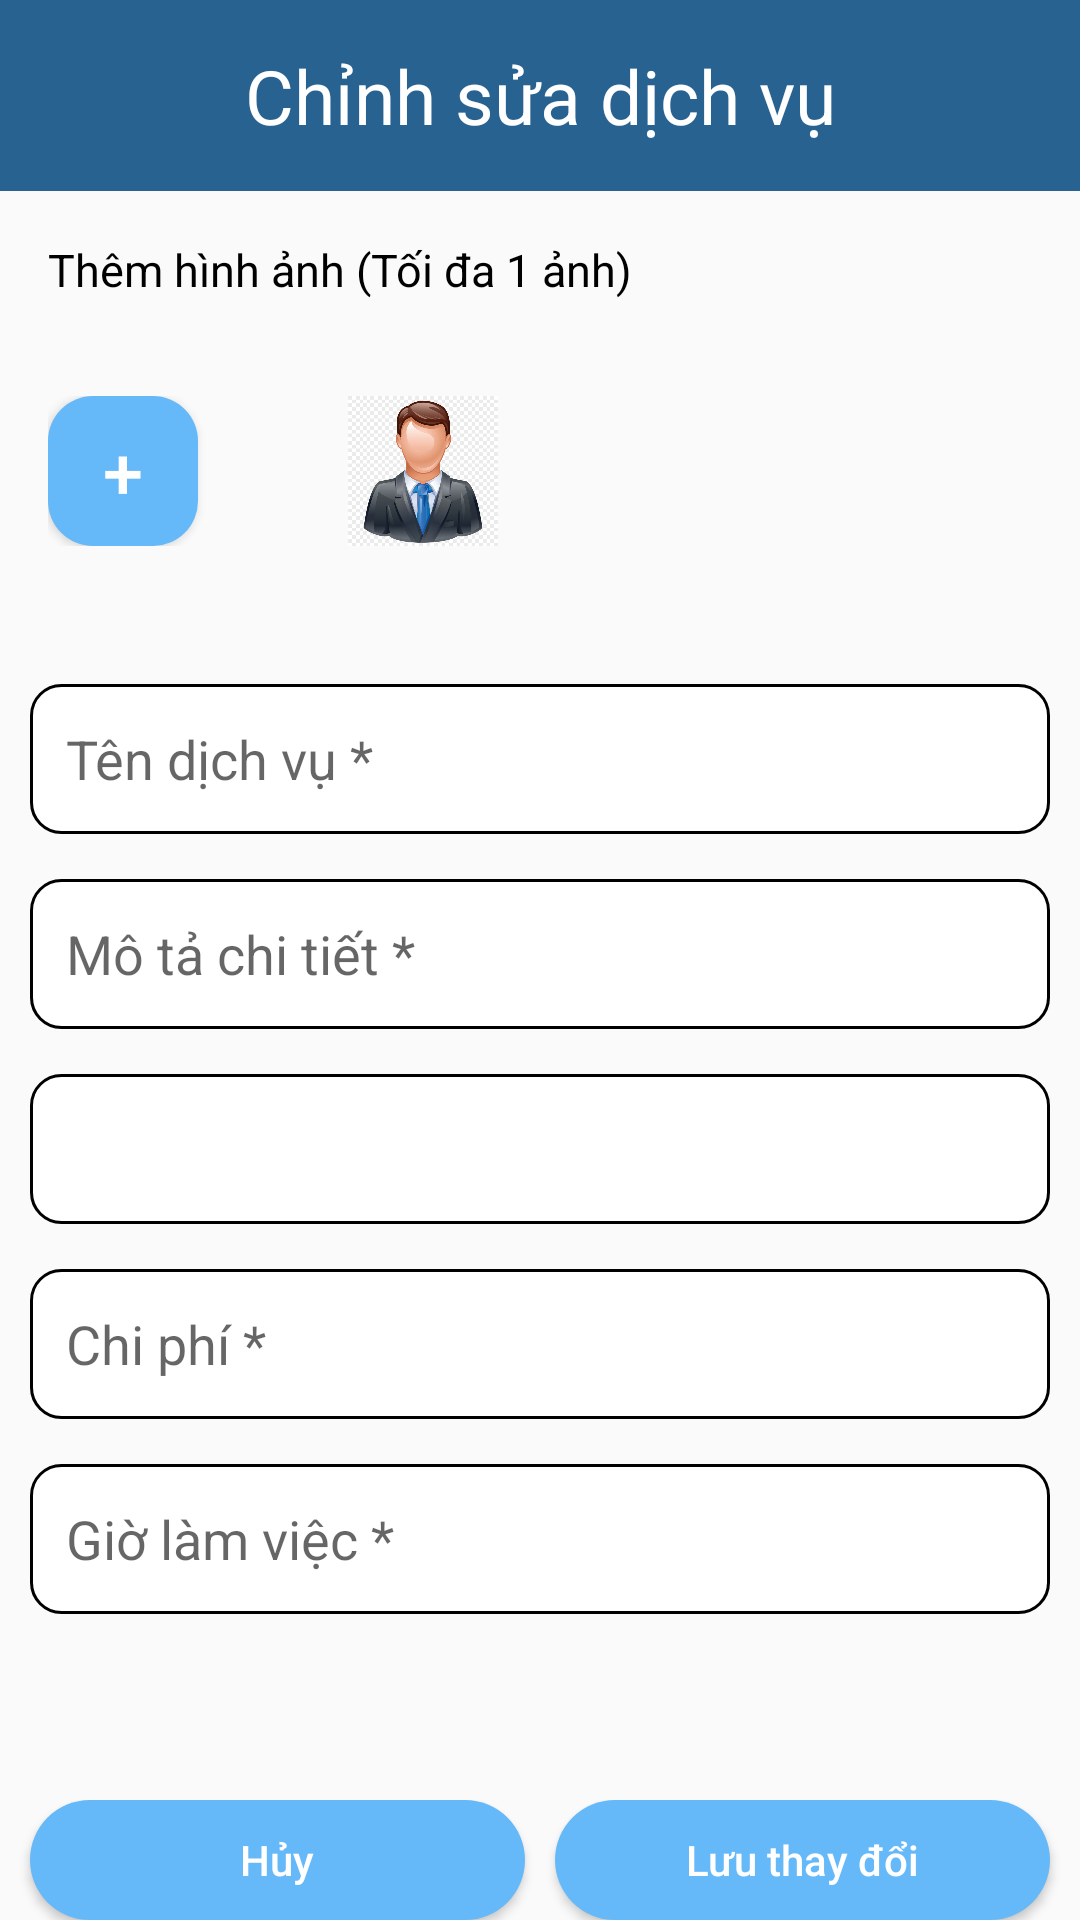

Icons on this 1080*1920 Android screen, each with the point to tap as (x,y):
user: (422,472)
